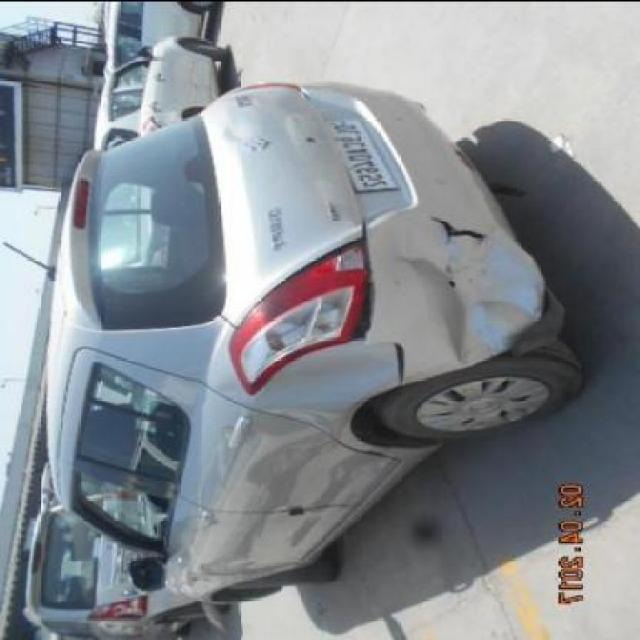damage: (404, 249, 553, 367), (350, 225, 412, 381), (426, 213, 492, 244)
